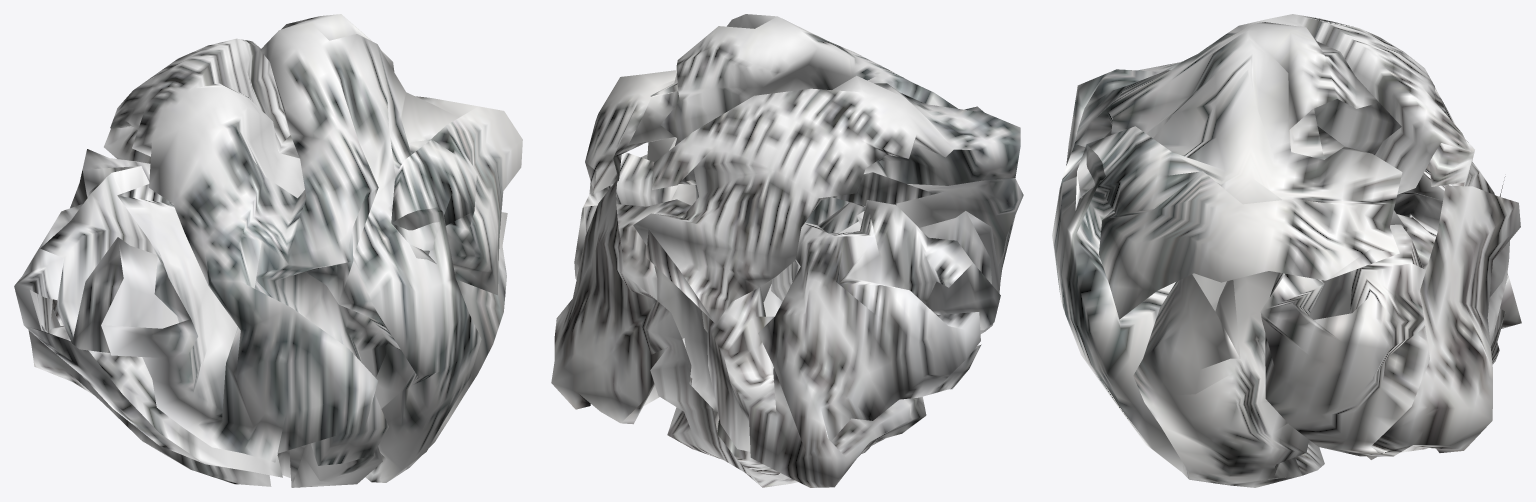
The model's file is Paper_Ball_2.fbx.
3 renders of one model, left to right at view 1: azimuth 30°, elevation 25°; view 2: azimuth 150°, elevation 25°; view 3: azimuth 270°, elevation 25°, orthographic. The views are drawn at different scales.
Visible parts, largest first — view 1: polySurface3; view 2: polySurface3; view 3: polySurface3.
Part boxes in pixels (x1,y1,x2,y2): polySurface3: (14,14,522,487); polySurface3: (551,14,1023,487); polySurface3: (1052,14,1521,487).
Bounding box in the file's own units: 9.57 × 9.08 × 8.8.
1 material, 1 textured.
